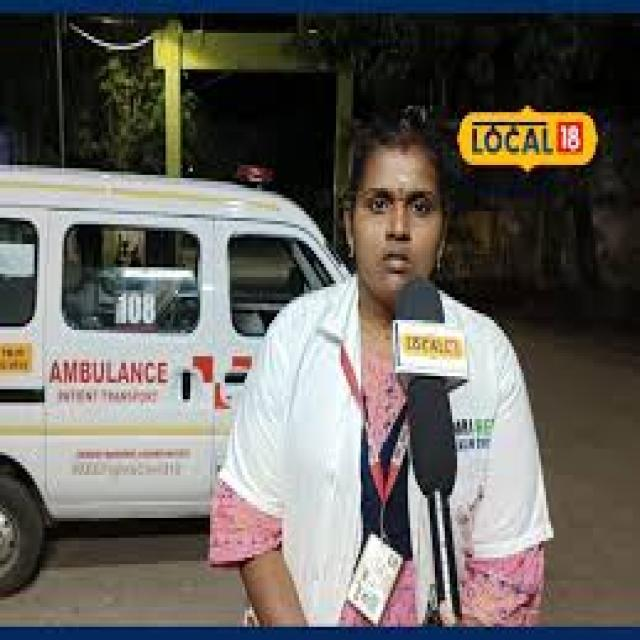ambulance: (0, 168, 349, 592)
